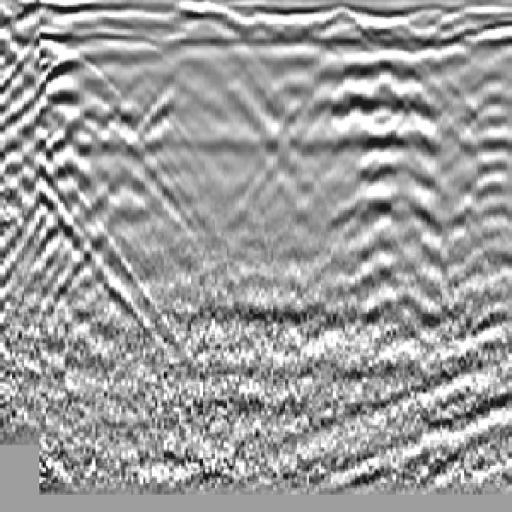non-metallic: (1, 39, 170, 262), (317, 41, 485, 264)
